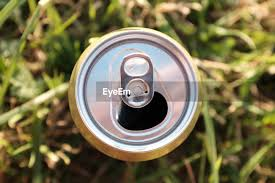can: (67, 27, 201, 163)
